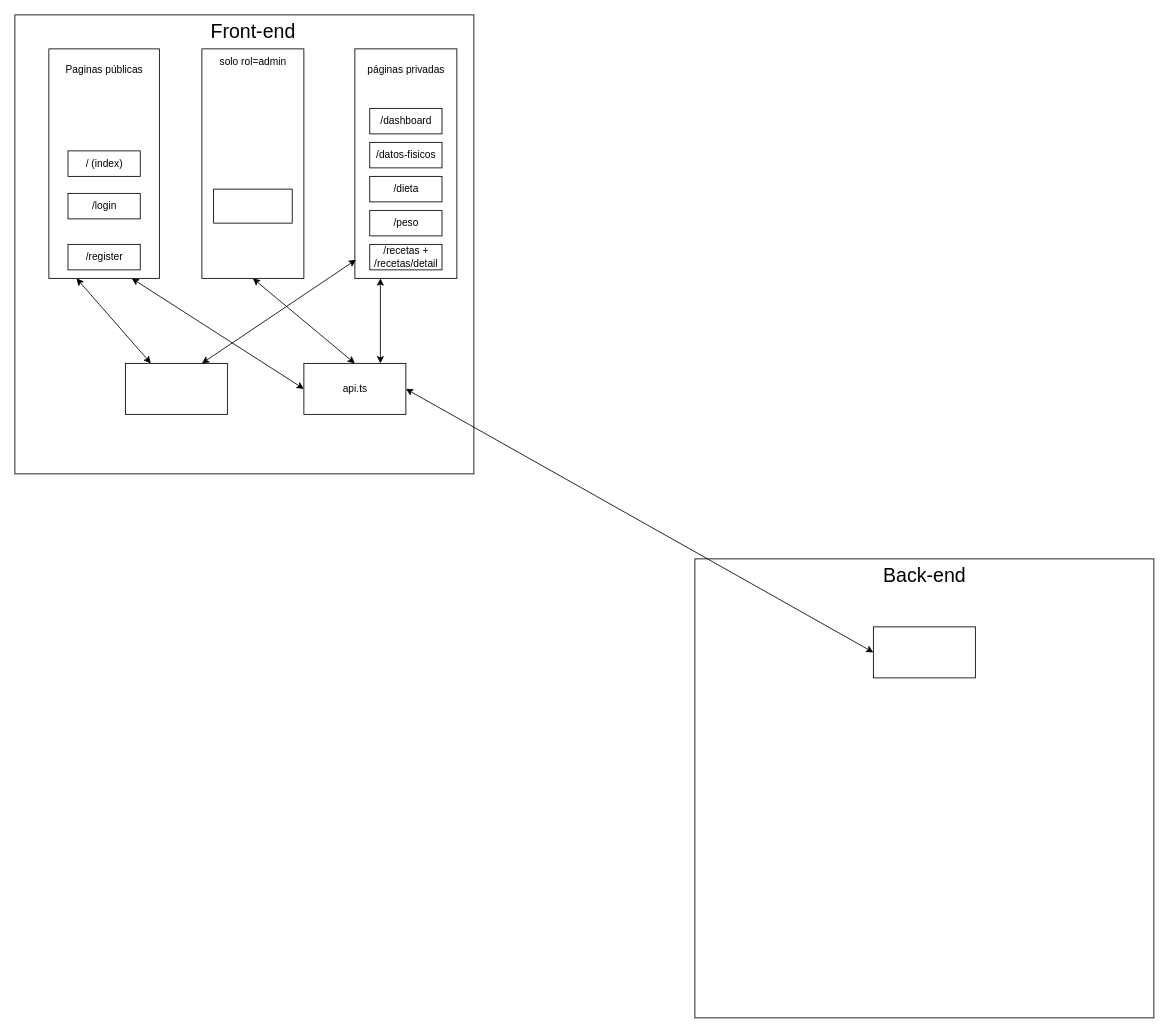
The diagram is 1169 pixels wide and 1033 high, and some of its shapes have lost their labels. The centre of each missing label's shape, as x and y in pixels:
"/admin/usuarios" goes at point 252,205.
"app.py" goes at point 924,652.
"formUtils.ts" goes at point 176,388.
